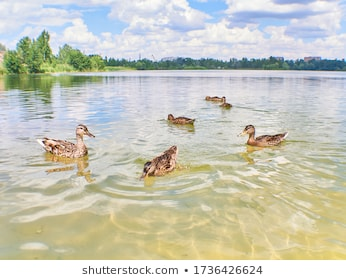duck: (33, 112, 101, 171), (130, 144, 184, 183), (232, 124, 293, 153), (162, 111, 198, 130)
